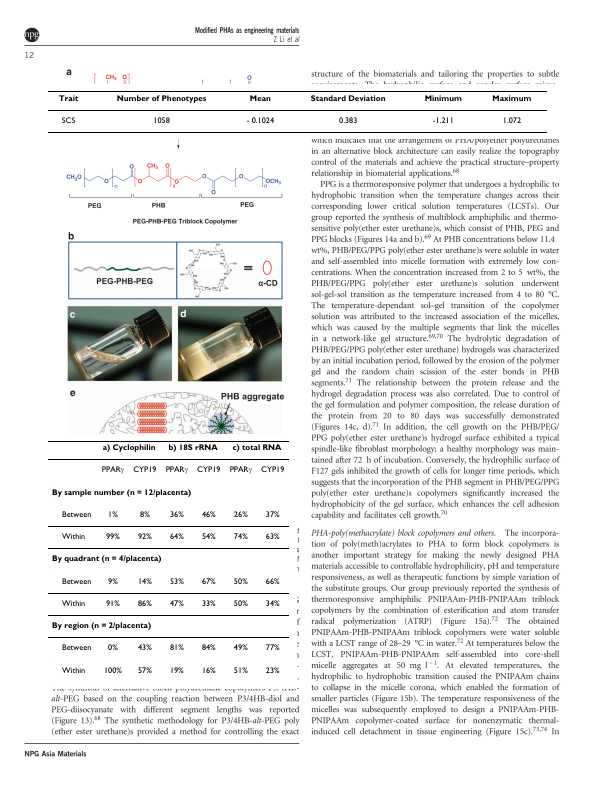borderless: (46, 439, 290, 683), (47, 89, 547, 132)
cell: (50, 488, 192, 498), (50, 555, 162, 564), (50, 622, 152, 631), (115, 94, 207, 103), (309, 94, 386, 103), (100, 455, 124, 477), (164, 455, 188, 477), (228, 455, 252, 477), (101, 444, 156, 453), (167, 444, 218, 453), (231, 444, 282, 453), (491, 94, 532, 103), (423, 94, 462, 103), (60, 510, 92, 518), (60, 577, 92, 585), (60, 644, 92, 652), (245, 116, 275, 124), (60, 599, 86, 607), (60, 666, 86, 674), (248, 94, 271, 103), (132, 466, 157, 474), (196, 466, 221, 474), (260, 466, 285, 474), (57, 94, 79, 103), (431, 116, 454, 124), (60, 533, 86, 540), (501, 116, 522, 124), (338, 116, 358, 124), (102, 666, 122, 674), (152, 116, 170, 124), (60, 116, 76, 124), (168, 510, 184, 518), (200, 510, 216, 518), (232, 510, 248, 518), (264, 510, 280, 518), (136, 577, 152, 585), (168, 577, 184, 585), (200, 577, 216, 585), (232, 577, 248, 585), (264, 577, 280, 585), (104, 599, 120, 607), (136, 599, 152, 607), (168, 599, 184, 607), (200, 599, 216, 607), (232, 599, 248, 607), (264, 599, 280, 607), (136, 644, 152, 652), (168, 644, 184, 652), (200, 644, 216, 652), (232, 644, 248, 652), (264, 644, 280, 652), (136, 666, 152, 674), (168, 666, 184, 674), (200, 666, 216, 674), (232, 666, 248, 674), (264, 666, 280, 674), (104, 533, 120, 540), (136, 533, 152, 540), (168, 533, 184, 540), (200, 533, 216, 540), (232, 533, 248, 540), (264, 533, 280, 540), (107, 510, 118, 518), (139, 510, 150, 518), (107, 577, 118, 585), (107, 644, 118, 652)
